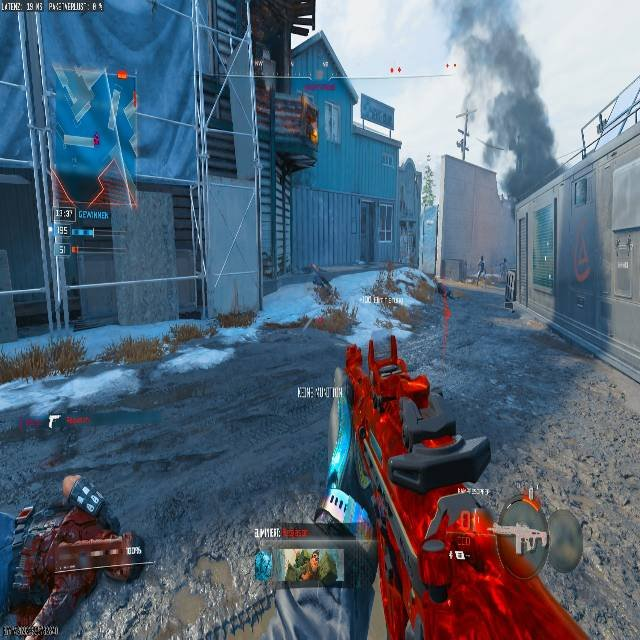player: (28, 475, 145, 632)
